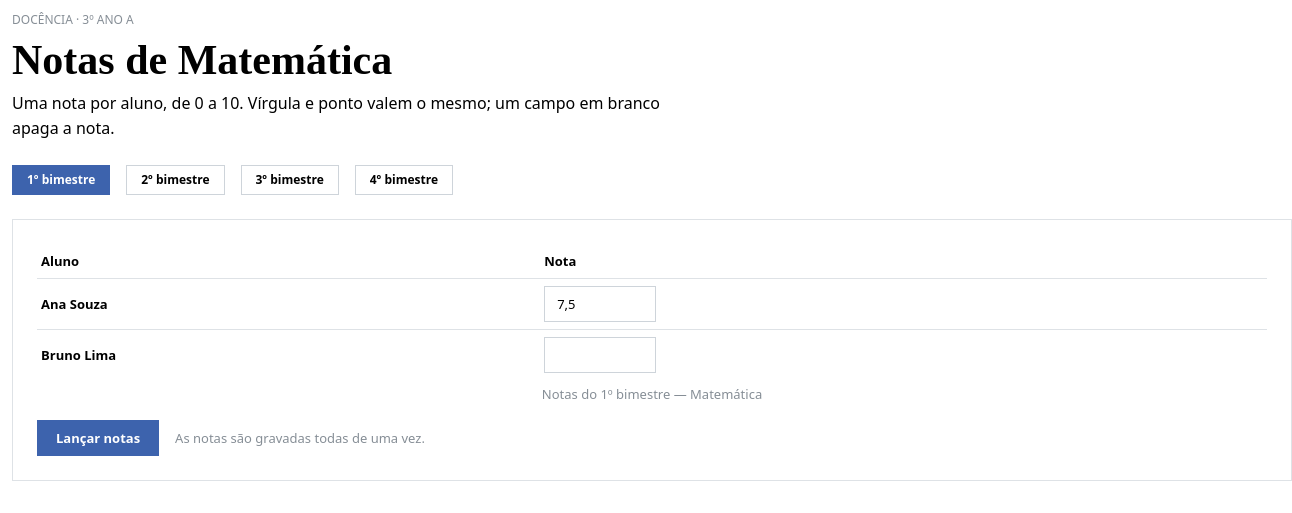
it: Grades — what the server refuses › a 422 naming an enrollment lights that cell: an error on an unregistered path renders nothing
In the field named "Nota de Bruno Lima": point(600, 355) [544,337,656,373], type "8"
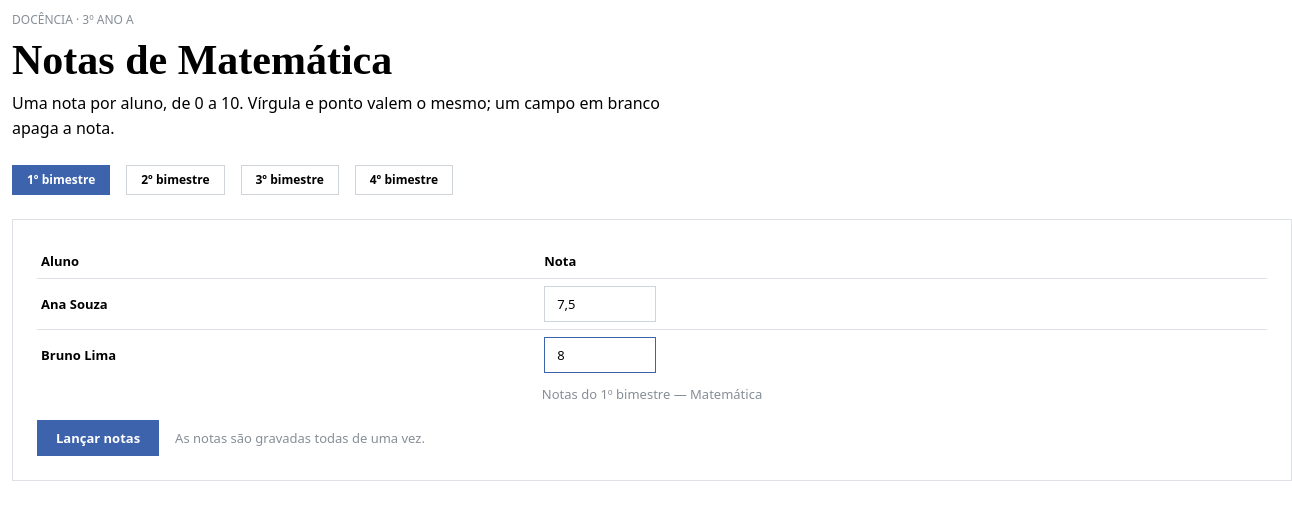
Click the button "Lançar notas": point(98, 438) [37,420,159,456]
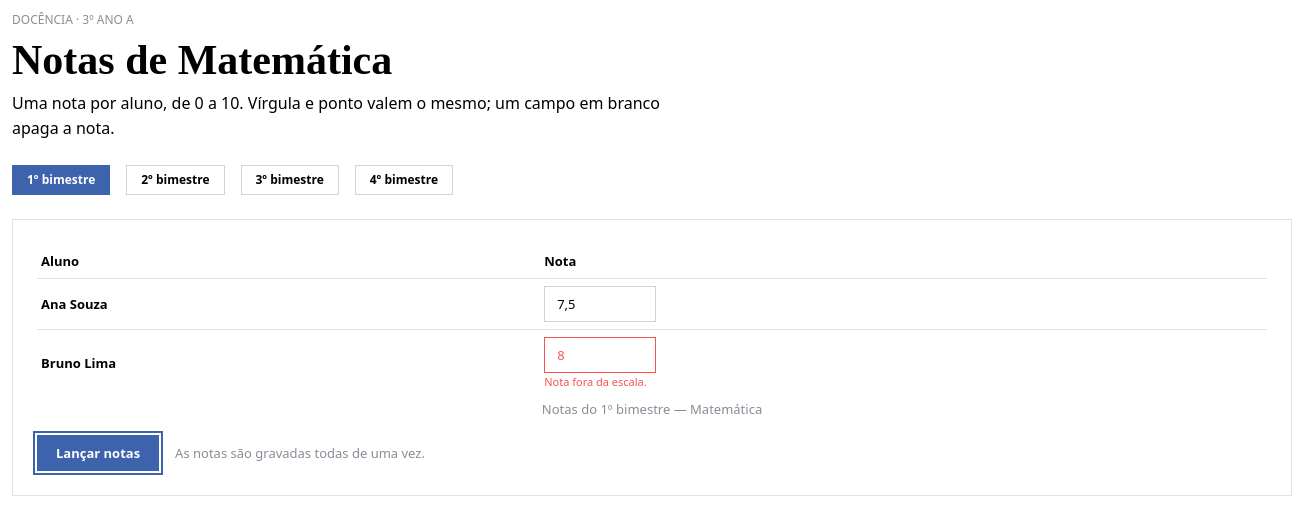
Expected: the text "Nota fora da escala." is shown, [544,375,656,388]
